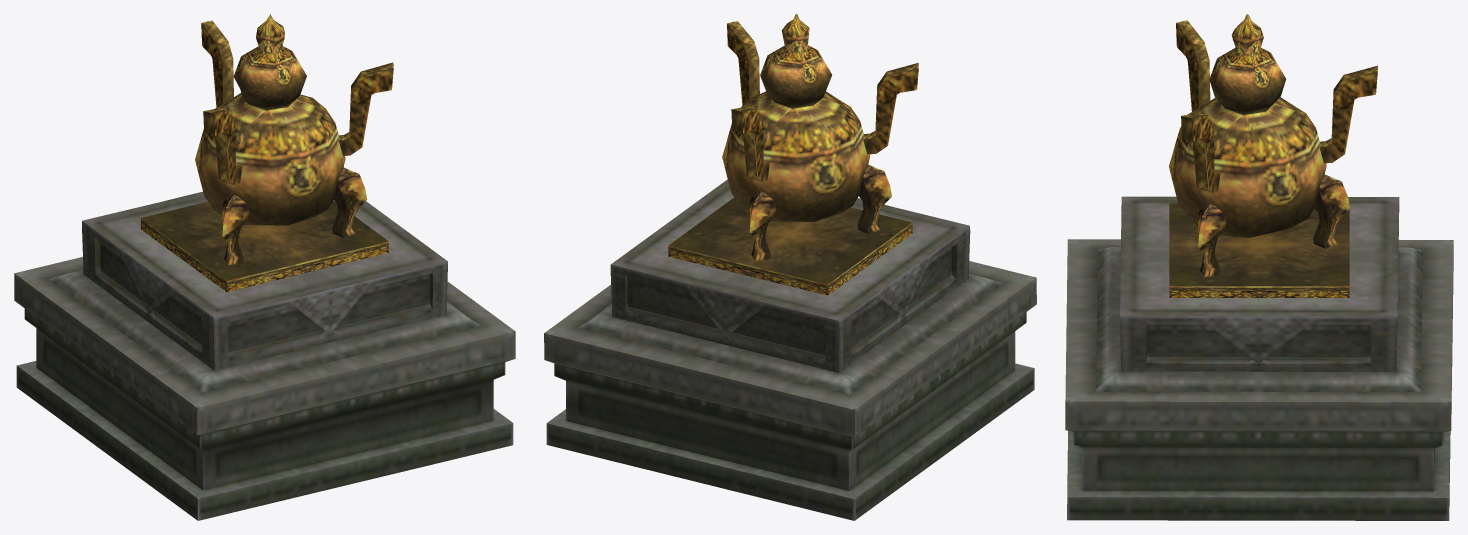
File: lianqizong_shitai03_jz.FBX
The picture shows the model from 3 angles, left to right: view 1: azimuth 30°, elevation 25°; view 2: azimuth 150°, elevation 25°; view 3: azimuth 270°, elevation 25°; orthographic projection. The views are drawn at different scales.
Visible parts, largest first — view 1: lianqizong_shitai03_jz_A; view 2: lianqizong_shitai03_jz_A; view 3: lianqizong_shitai03_jz_A.
Part boxes in pixels (box(x1,y1,x2,y2)): lianqizong_shitai03_jz_A: box(14, 14, 515, 520); lianqizong_shitai03_jz_A: box(544, 14, 1036, 520); lianqizong_shitai03_jz_A: box(1065, 14, 1453, 520).
Bounding box in the file's own units: 86.15 × 105 × 86.8.
